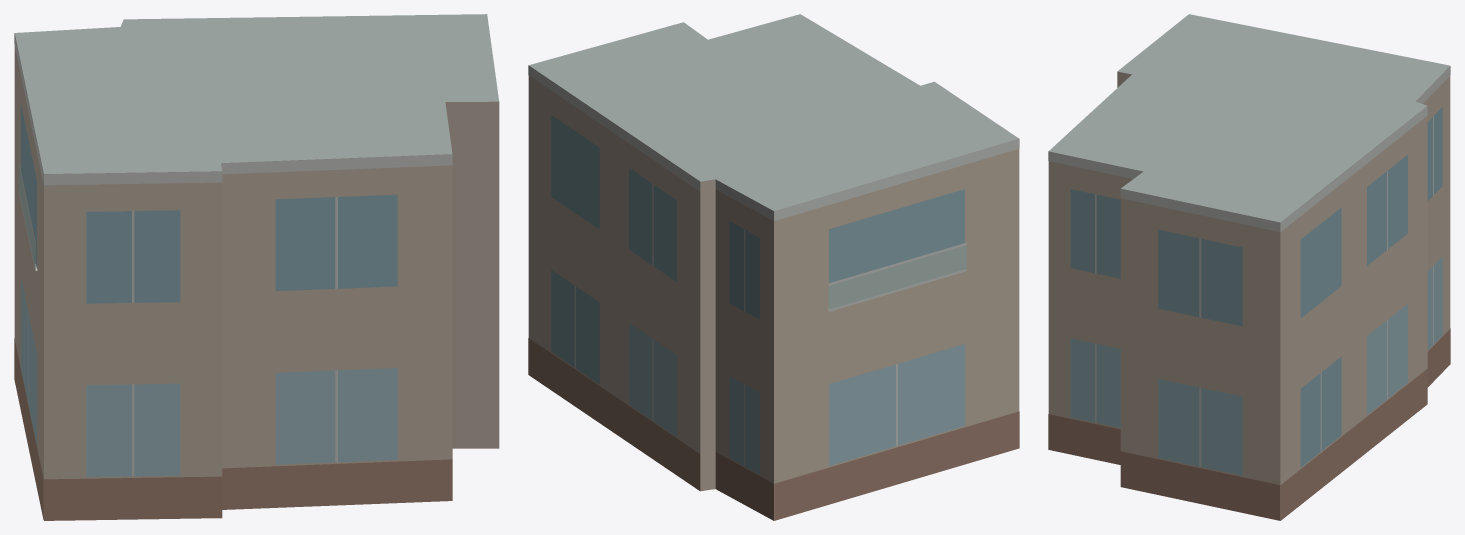
File: survey-upis-32512787.glb
3 views of the same model, side by side, from view 1: azimuth 30°, elevation 25°; view 2: azimuth 150°, elevation 25°; view 3: azimuth 270°, elevation 25° (orthographic). The views are drawn at different scales.
Parts seen in each view (by area): view 1: survey-upis-32512787.tmp; view 2: survey-upis-32512787.tmp; view 3: survey-upis-32512787.tmp.
Boxes of the visible parts, x1=… form: survey-upis-32512787.tmp: x1=14, y1=14, x2=499, y2=520; survey-upis-32512787.tmp: x1=528, y1=14, x2=1019, y2=520; survey-upis-32512787.tmp: x1=1048, y1=14, x2=1450, y2=520.
Size of the model in its own units: 11.25 by 7.5 by 9.17.
